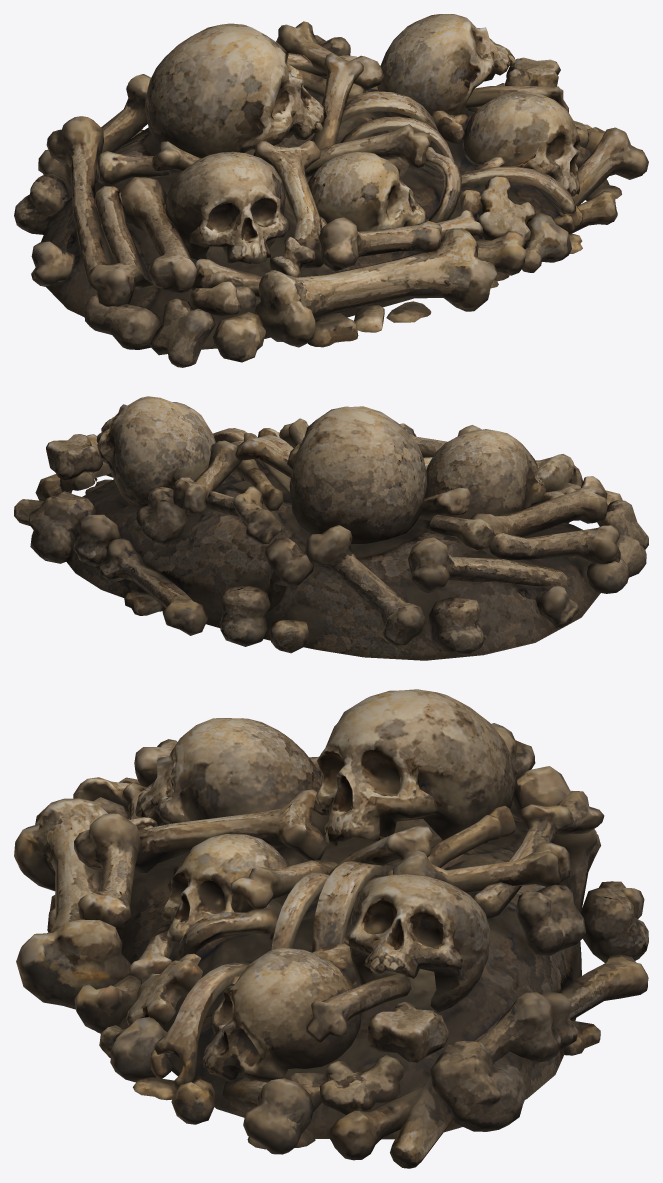
The model's file is dungeon_bone_pile.glb.
3 views of the same model, one above another, from view 1: azimuth 30°, elevation 25°; view 2: azimuth 150°, elevation 25°; view 3: azimuth 270°, elevation 25° (orthographic). The views are drawn at different scales.
Parts seen in each view (by area): view 1: tripo_58851f24_105e_4d7a_965a_11abe84bad39; view 2: tripo_58851f24_105e_4d7a_965a_11abe84bad39; view 3: tripo_58851f24_105e_4d7a_965a_11abe84bad39.
Boxes of the visible parts, x1,y1,x2,y2 form: tripo_58851f24_105e_4d7a_965a_11abe84bad39: [14, 14, 648, 367]; tripo_58851f24_105e_4d7a_965a_11abe84bad39: [14, 396, 648, 660]; tripo_58851f24_105e_4d7a_965a_11abe84bad39: [14, 689, 648, 1168].
Bounding box in the file's own units: 0.9995 × 0.3335 × 0.7524.
1 material, 1 textured.
